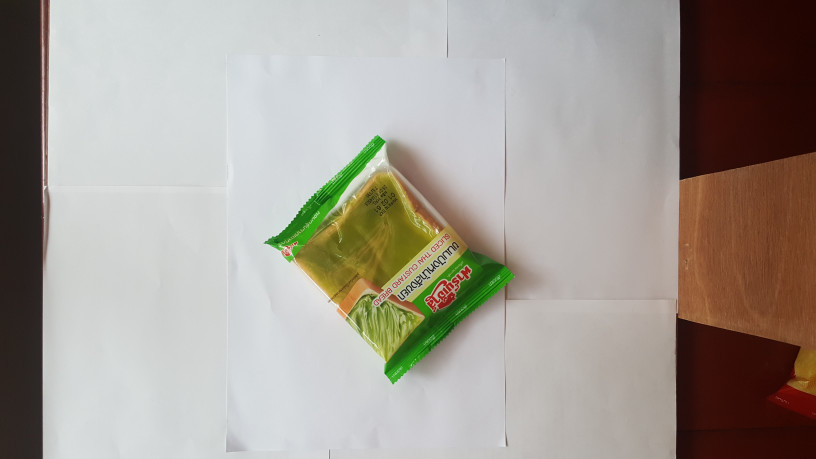farmhouse-bread-pandan: (264, 137, 520, 386)
